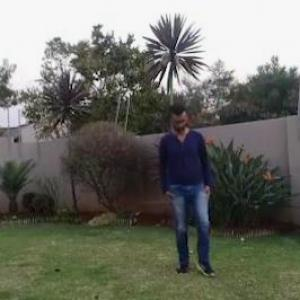follow: (160, 95, 218, 276)
